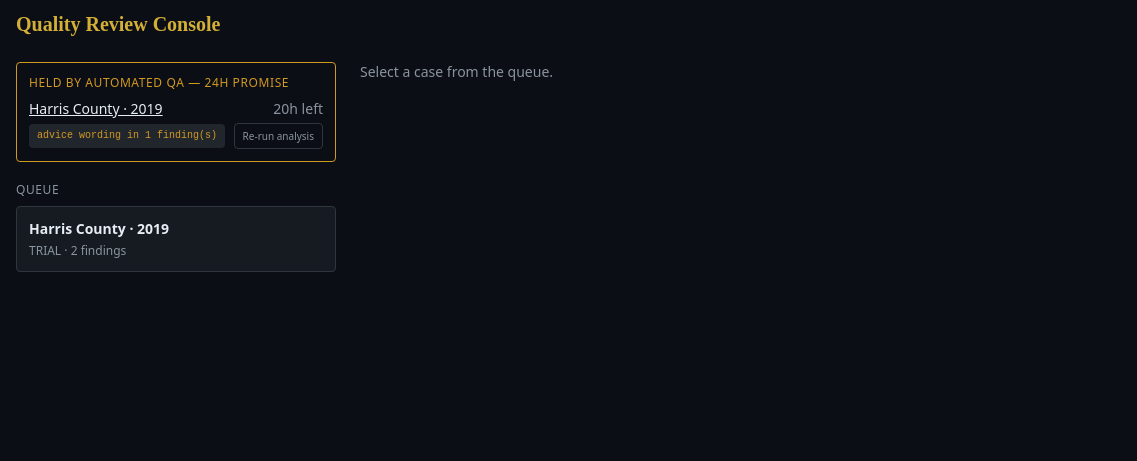
Scenario: QA console — advice wording badge › shows the phrases on the flagged finding only, and the hold reason in the held list
Check: the list item with test id "hold-row" shows "advice wording in 1 finding(s)", box [37,130,217,141]
Click the text "Harris County · 2019".
click(99, 228)  # box [29,219,169,238]
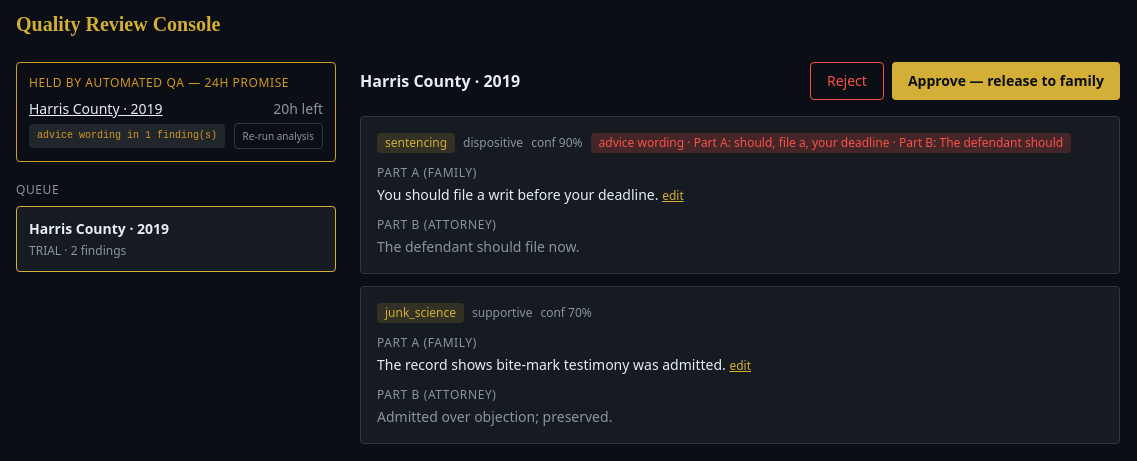
Check: the text "The record shows bite-mark testimony was admitted. edit" is shown, box [377,355,751,374]
Check: the number of elements with test id "advice-lint-badge" is 1, box [590,133,1071,153]
Check: the text with test id "advice-lint-badge" shows "advice wording", box [598,134,684,151]
